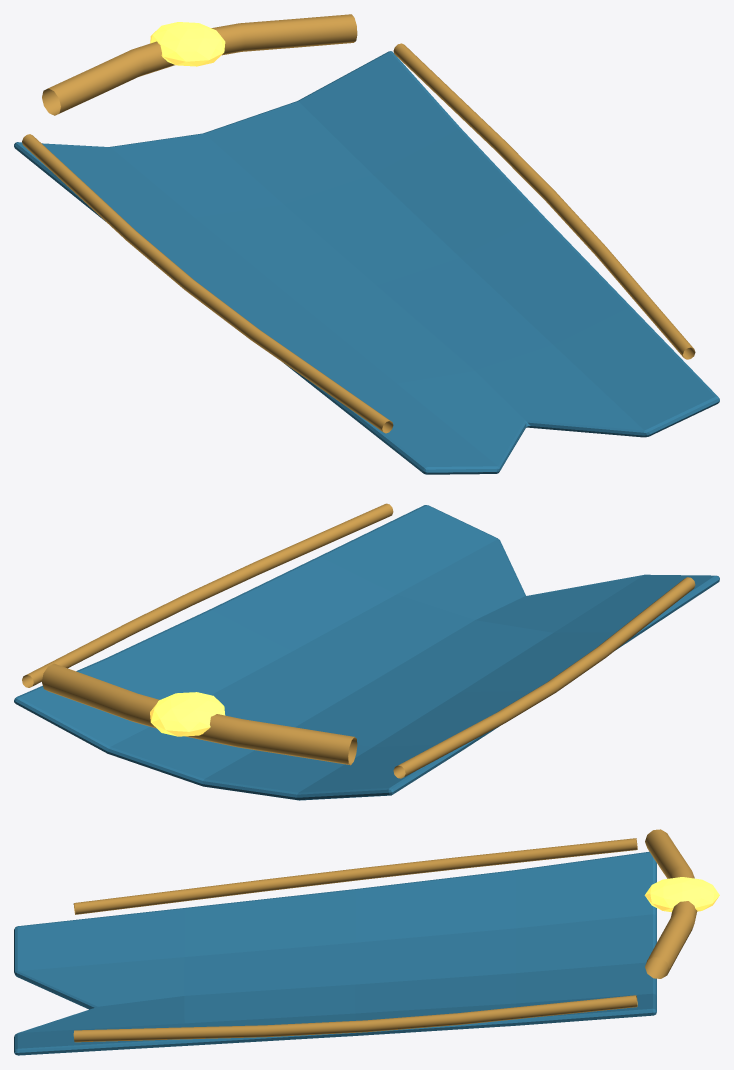
File: cape_horizon.glb
3 views of the same model, one above another, from view 1: azimuth 30°, elevation 25°; view 2: azimuth 150°, elevation 25°; view 3: azimuth 270°, elevation 25° (orthographic). The views are drawn at different scales.
Parts seen in each view (by area): view 1: CapeCloth, TopClasp, HemL, HemR, CapeClasp; view 2: CapeCloth, TopClasp, HemR, HemL, CapeClasp; view 3: CapeCloth, HemL, HemR, TopClasp, CapeClasp.
Part boxes in pixels (<box>): CapeCloth: <box>14,51,719,474</box>; TopClasp: <box>42,14,357,115</box>; HemL: <box>22,134,393,433</box>; HemR: <box>393,43,695,359</box>; CapeClasp: <box>150,22,225,66</box>; CapeCloth: <box>14,505,719,800</box>; TopClasp: <box>42,663,357,765</box>; HemR: <box>22,503,393,687</box>; HemL: <box>393,577,695,778</box>; CapeClasp: <box>150,692,225,736</box>; CapeCloth: <box>14,851,656,1055</box>; HemL: <box>73,838,637,914</box>; HemR: <box>73,995,637,1042</box>; TopClasp: <box>645,829,697,978</box>; CapeClasp: <box>644,877,719,912</box>.
Bounding box in the file's own units: 0.764 × 0.2869 × 1.41.
